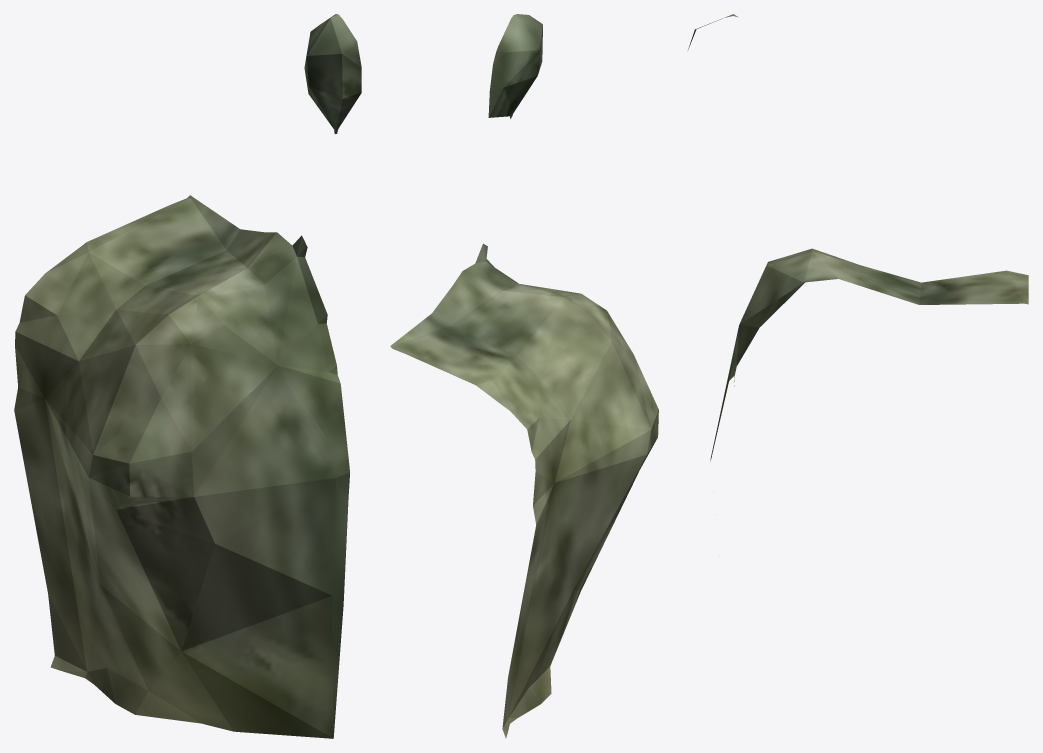
3 renders of one model, left to right at view 1: azimuth 30°, elevation 25°; view 2: azimuth 150°, elevation 25°; view 3: azimuth 270°, elevation 25°, orthographic. The views are drawn at different scales.
Bounding box in the file's own units: 0.5119 × 1.73 × 0.7418.
1 material, 1 textured.
